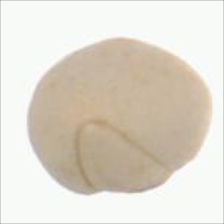L5: (72, 115, 175, 195)
L6: (24, 36, 216, 198)
